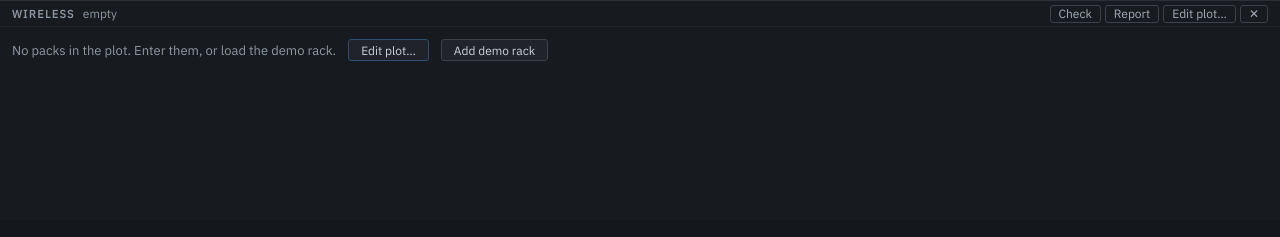
Test case: RfPanel › reports an empty plot and adds the demo rack from the empty state
Expected: the element with class "rf-empty" is shown, [12,39,548,61]
Click the button with class "rf-demo-btn" at {"x": 494, "y": 50}, box [441,39,548,61]
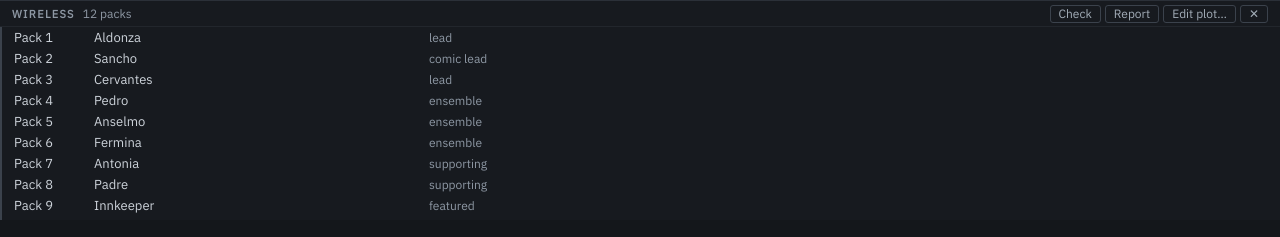
Result: the element with class "rf-empty" is gone
Result: the button with class "rf-demo-btn" is gone
